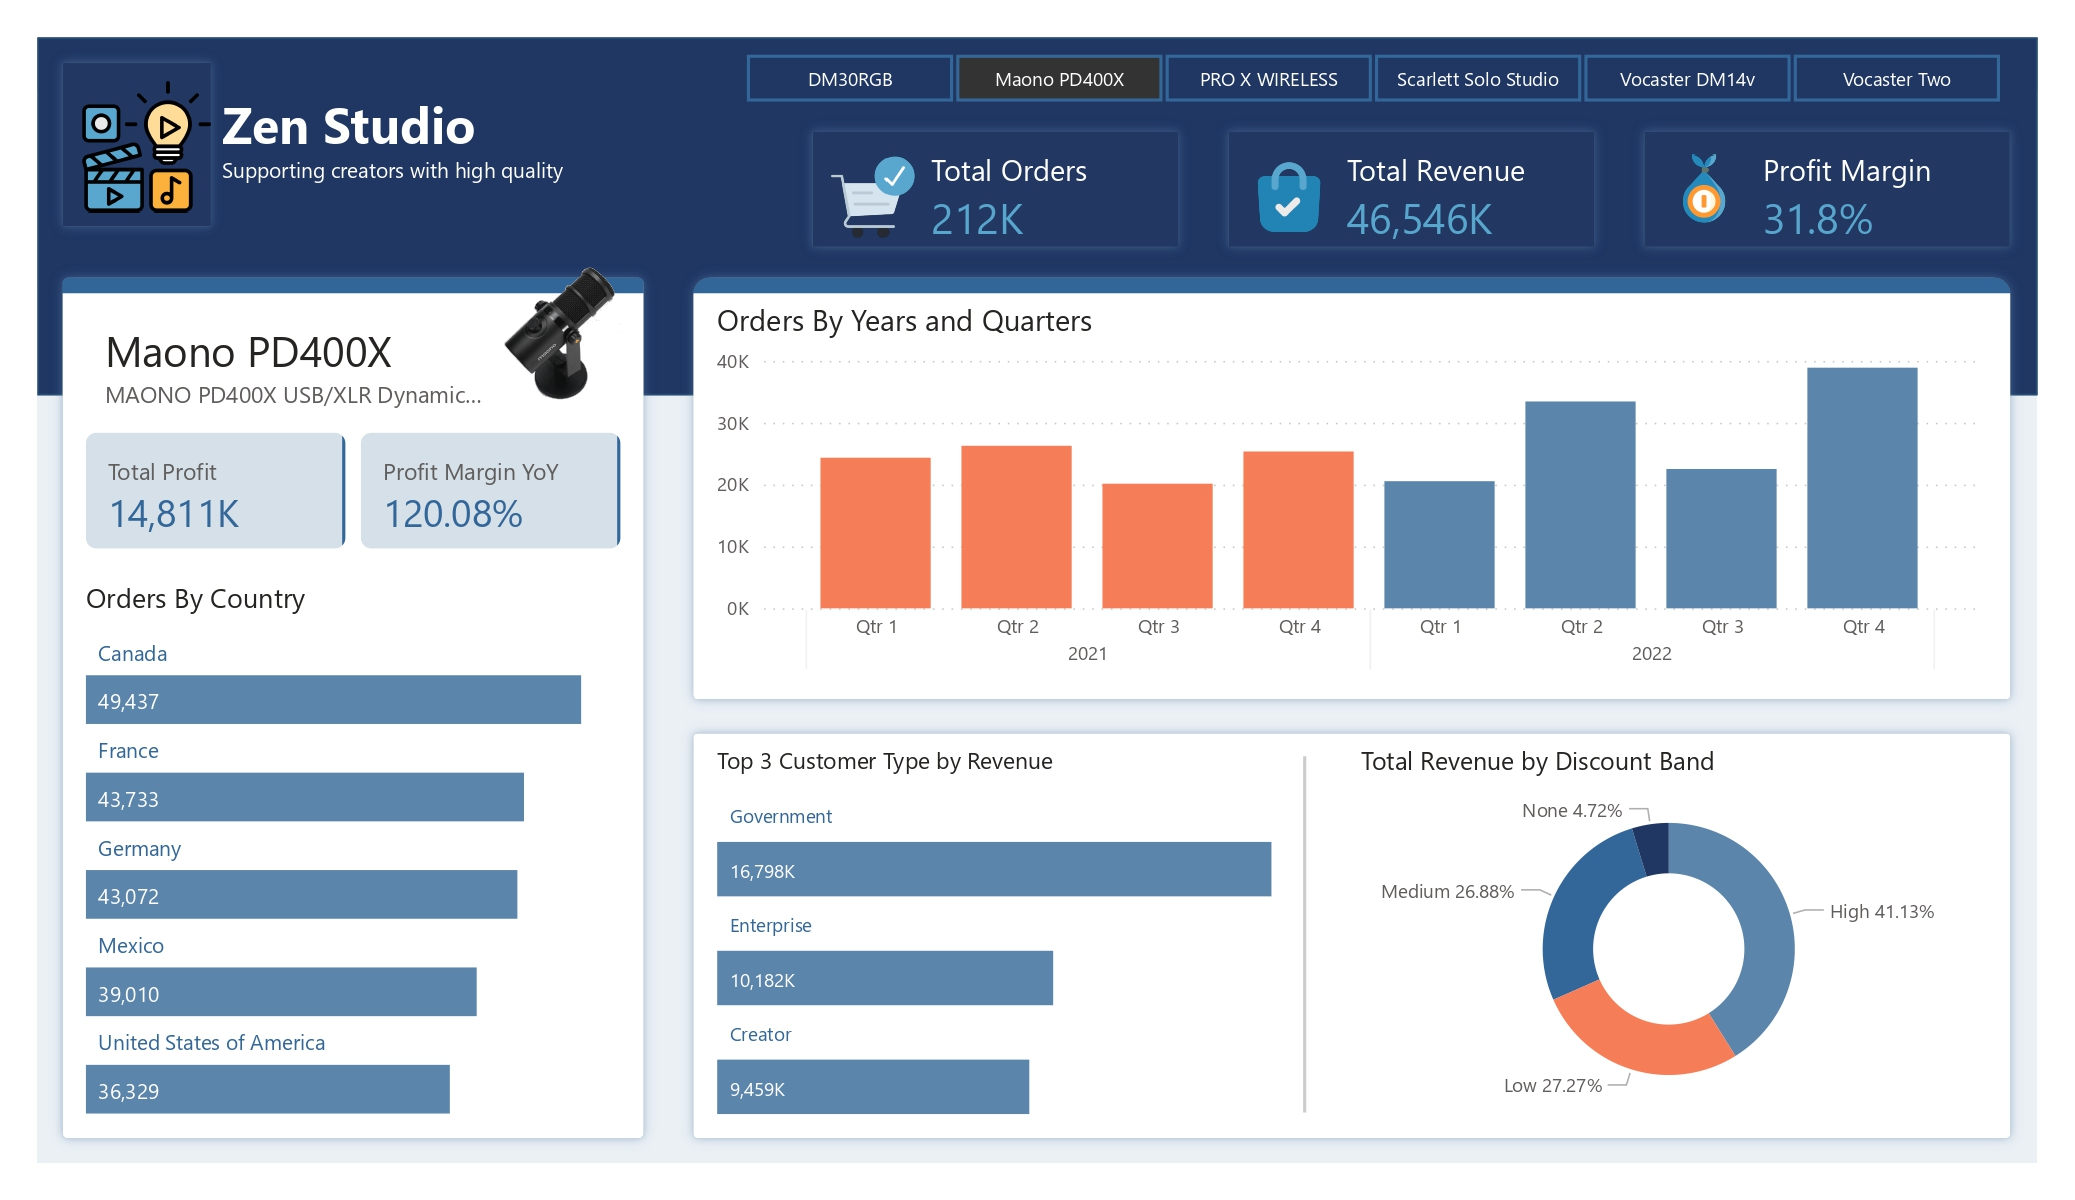

This screenshot's page, from the dashboard's own definition file:
{"tool":"powerbi","page":{"name":"Page 1","canvas":[1280,720],"ordinal":0},"visuals":[{"type":"shape","box":[0,0,1280,229],"z":0},{"type":"cardVisual","fields":{"Data":["Business calculations.Cost YoY"]},"box":[0,137.5,404,583],"z":1000},{"type":"cardVisual","fields":{"Data":["Business calculations.Cost YoY"]},"box":[404.5,137.5,875.3,302.6],"z":2000},{"type":"cardVisual","fields":{"Data":["Business calculations.Cost YoY"]},"box":[404.5,428.8,875.3,291.2],"z":3000},{"type":"cardVisual","fields":{"Data":["Business calculations.Cost YoY"]},"box":[0,0,127.8,137.5],"z":4000},{"type":"textbox","box":[113.3,27.5,347.9,84.1],"z":5000},{"type":"cardVisual","fields":{"Data":["Business calculations.Total Orders","Business calculations.Total Revenue","Business calculations.Profit Margin"]},"box":[480,44,800,106],"z":6000},{"type":"cardVisual","fields":{"Data":["Business calculations.Total Profit","Business calculations.Profit Margin YoY"]},"box":[25.9,247.6,352.7,84.1],"z":7000},{"type":"clusteredBarChart","title":"Orders By Country","fields":{"Category":["Sales.Country"],"Y":["Business calculations.Orders 2","Business calculations.Total Orders"]},"box":[25.9,346.2,352.7,347.9],"z":7001},{"type":"columnChart","title":"Orders By Years and Quarters","fields":{"Y":["Business calculations.Total Orders"],"Category":["DateTable.Date.Variation.Date Hierarchy.Year","DateTable.Date.Variation.Date Hierarchy.Quarter"]},"box":[430.4,168.3,815.5,247.6],"z":7002},{"type":"clusteredBarChart","title":"Top 3 Customer Type by Revenue","fields":{"Category":["Sales.Customer Type"],"Y":["Business calculations.Revenue 2","Business calculations.Total Revenue"]},"box":[430,452,408,242],"z":7003},{"type":"donutChart","fields":{"Category":["Sales.Discount Band"],"Y":["Business calculations.Total Revenue"]},"box":[842,452,404,242],"z":7004},{"type":"shape","box":[778,460,66,228],"z":7005},{"type":"slicer","fields":{"Values":["Products.Product"]},"box":[430,6,850,40],"z":7006},{"type":"cardVisual","fields":{"Data":["Min(Products.Product)"]},"box":[26,166,290,82],"z":7007},{"type":"cardVisual","fields":{"Data":["Min(Products.Product)"]},"box":[260,114,144,134],"z":7008}]}

Visuals, with their boxes in screenshot pixels (x1, y1, x2, y2):
shape: x1=38 y1=38 x2=2038 y2=395
cardVisual - Business calculations.Cost YoY: x1=38 y1=252 x2=669 y2=1162
cardVisual - Business calculations.Cost YoY: x1=670 y1=252 x2=2037 y2=725
cardVisual - Business calculations.Cost YoY: x1=670 y1=708 x2=2037 y2=1162
cardVisual - Business calculations.Cost YoY: x1=38 y1=38 x2=237 y2=252
textbox: x1=215 y1=80 x2=758 y2=212
cardVisual - Business calculations.Total Orders x Business calculations.Total Revenue: x1=788 y1=106 x2=2038 y2=272
cardVisual - Business calculations.Total Profit x Business calculations.Profit Margin YoY: x1=78 y1=424 x2=629 y2=556
"Orders By Country" clusteredBarChart: x1=78 y1=578 x2=629 y2=1122
"Orders By Years and Quarters" columnChart: x1=710 y1=300 x2=1984 y2=687
"Top 3 Customer Type by Revenue" clusteredBarChart: x1=709 y1=744 x2=1347 y2=1122
donutChart - Sales.Discount Band x Business calculations.Total Revenue: x1=1353 y1=744 x2=1984 y2=1122
shape: x1=1253 y1=756 x2=1356 y2=1112
slicer - Products.Product: x1=709 y1=47 x2=2038 y2=109
cardVisual - Min(Products.Product): x1=78 y1=297 x2=531 y2=425
cardVisual - Min(Products.Product): x1=444 y1=216 x2=669 y2=425
